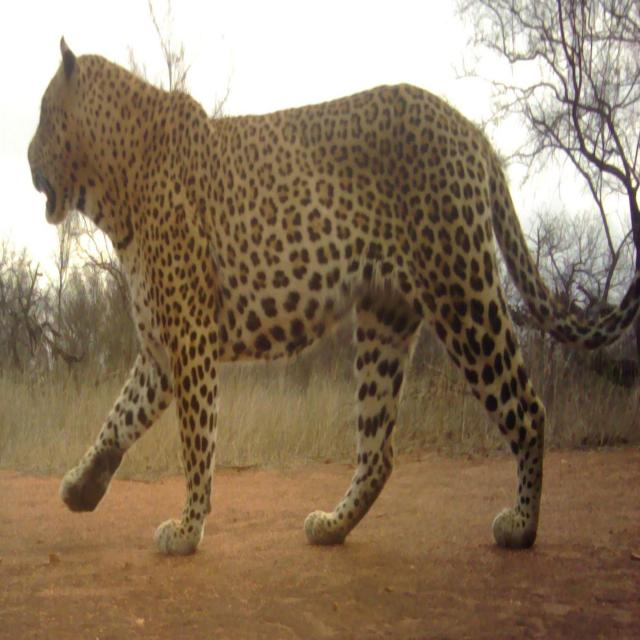Leopard: (34, 67, 607, 557)
